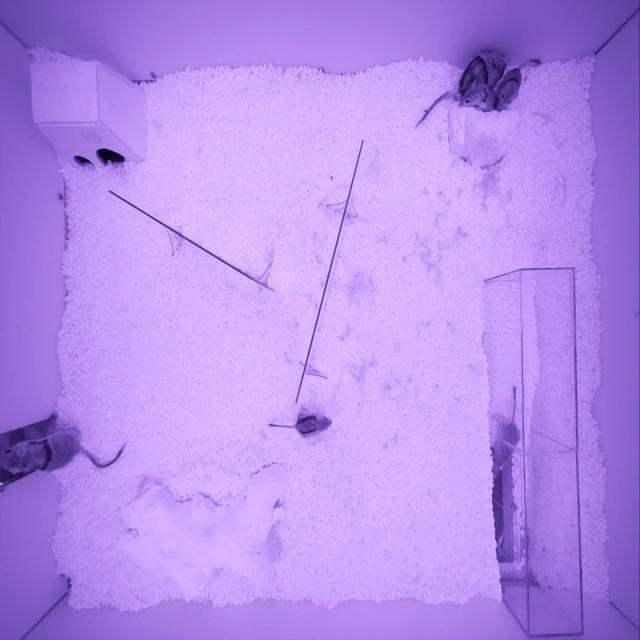adult_back: (454, 51, 507, 101)
adult_front: (0, 432, 80, 475)
pup_fluffy: (493, 423, 520, 468)
pup_h_stripe: (497, 68, 522, 113)
pup_spotted: (460, 83, 500, 112)
pup_v_stripe: (295, 415, 332, 439)
